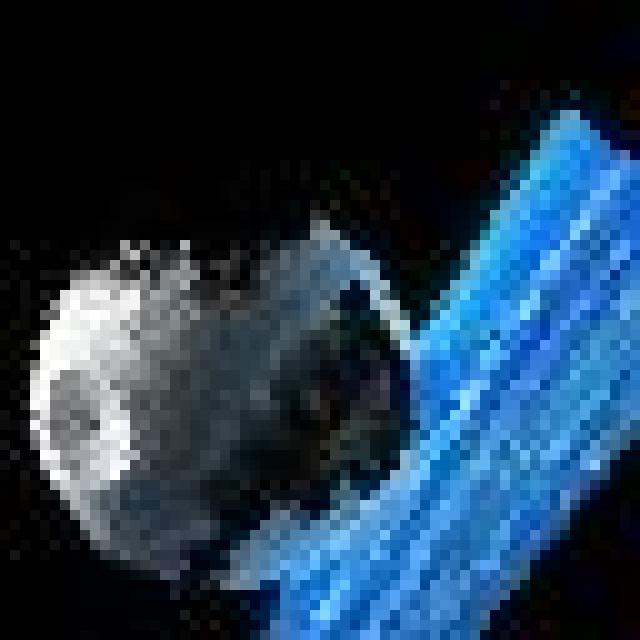Death Star: (24, 222, 431, 605)
